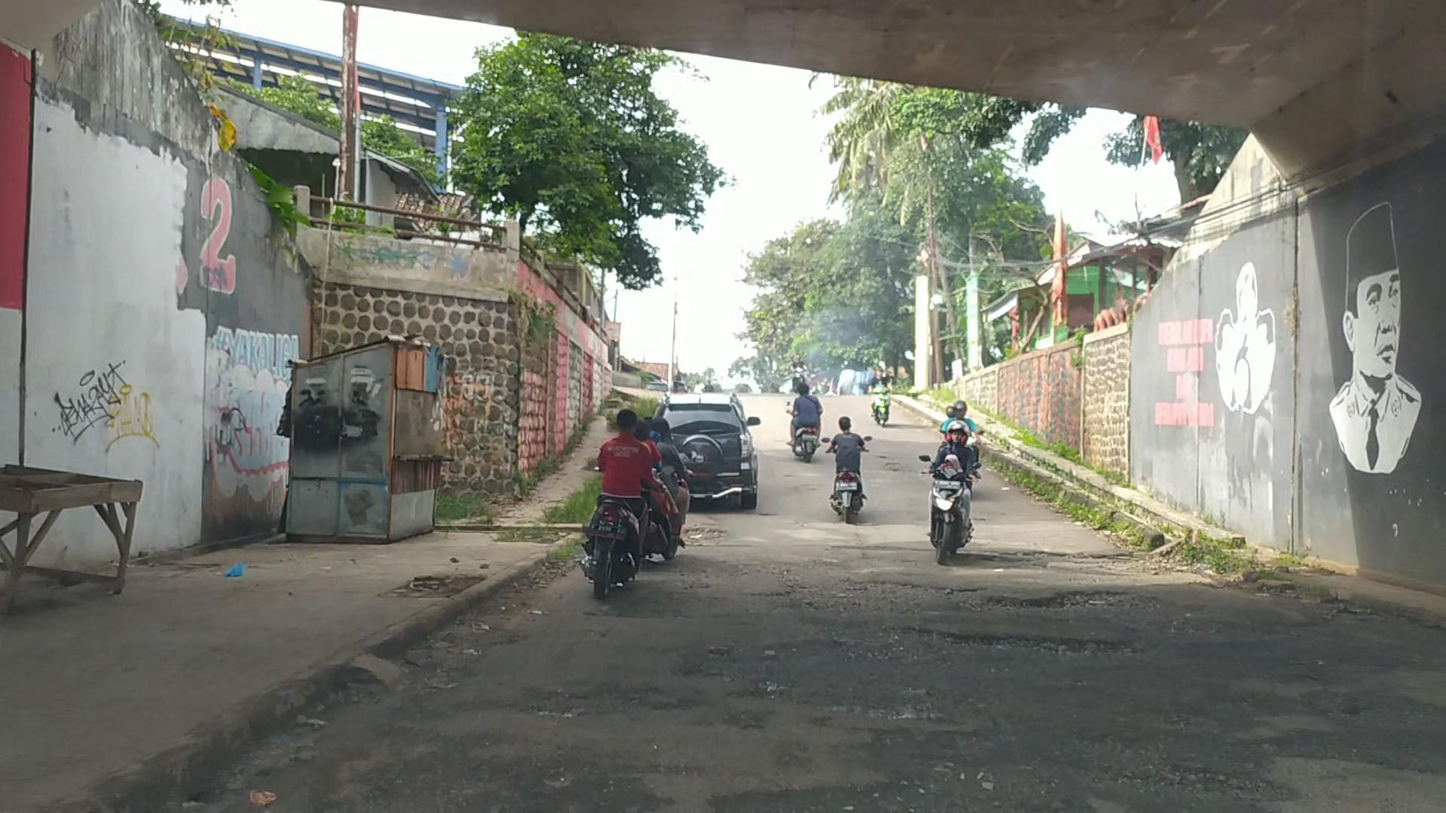pothole: (837, 580, 1199, 625), (887, 630, 1146, 670), (388, 569, 483, 602)
